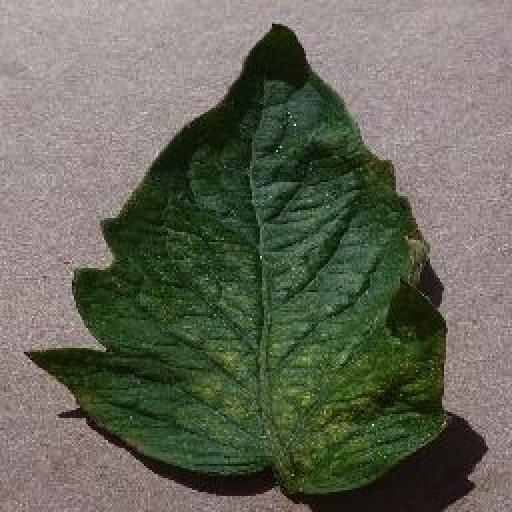disease_tomato: (22, 20, 458, 492)
